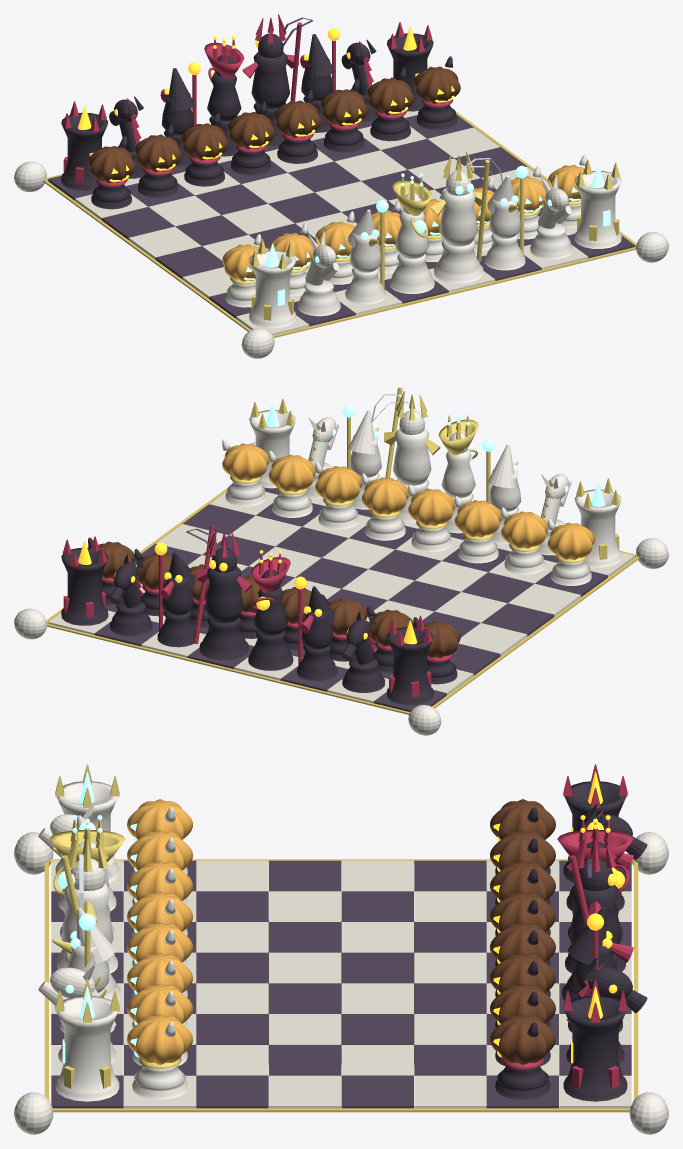
The model's file is halloween_chess_full.glb.
The picture shows the model from 3 angles, top to bottom: view 1: azimuth 30°, elevation 25°; view 2: azimuth 150°, elevation 25°; view 3: azimuth 270°, elevation 25°; orthographic projection. The views are drawn at different scales.
Visible parts, largest first — view 1: Rook_Tower_W, Rook_Tower_W.001, Rook_Tower_B, King_Robe_W, King_Robe_B, King_Base_W, Rook_Tower_B.001, Khối Lập Phương.003, Queen_Base_W, Sq_A5, Pawn_Pump_B.005, Sq_A6 (+75 smaller); view 2: Rook_Tower_B, Rook_Tower_B.001, Rook_Tower_W, King_Robe_B, King_Robe_W, King_Base_B, Rook_Tower_W.001, Pawn_Pump_W.002, Pawn_Pump_W, Pawn_Pump_W.006, Pawn_Pump_W.003, Pawn_Pump_W.004 (+74 smaller); view 3: Rook_Tower_B.001, Rook_Tower_W.001, Khối Lập Phương, Sq_H3, Sq_H6, Sq_H4, Sq_H5, Pawn_Pump_W.007, Pawn_Pump_B.007, Sq_A3, Sq_A6, Sq_D3 (+76 smaller).
Part boxes in pixels (left/top/right/bottom): Rook_Tower_W: left=249, top=250, right=295, bottom=328; Rook_Tower_W.001: left=574, top=171, right=621, bottom=248; Rook_Tower_B: left=61, top=112, right=107, bottom=190; King_Robe_W: left=439, top=189, right=477, bottom=246; King_Robe_B: left=251, top=51, right=289, bottom=108; King_Base_W: left=434, top=240, right=483, bottom=283; Rook_Tower_B.001: left=387, top=33, right=433, bottom=111; Khối Lập Phương.003: left=272, top=247, right=635, bottom=337; Queen_Base_W: left=389, top=254, right=434, bottom=293; Sq_A5: left=128, top=226, right=201, bottom=259; Pawn_Pump_B.005: left=320, top=89, right=367, bottom=126; Sq_A6: left=102, top=207, right=174, bottom=239; Rook_Tower_B: left=387, top=627, right=433, bottom=705; Rook_Tower_B.001: left=61, top=547, right=108, bottom=625; Rook_Tower_W: left=574, top=489, right=621, bottom=567; King_Robe_B: left=205, top=566, right=243, bottom=623; King_Robe_W: left=393, top=428, right=431, bottom=485; King_Base_B: left=199, top=617, right=248, bottom=660; Rook_Tower_W.001: left=249, top=410, right=295, bottom=488; Pawn_Pump_W.002: left=454, top=500, right=501, bottom=537; Pawn_Pump_W: left=547, top=522, right=594, bottom=560; Pawn_Pump_W.006: left=268, top=454, right=315, bottom=491; Pawn_Pump_W.003: left=408, top=488, right=455, bottom=525; Pawn_Pump_W.004: left=361, top=477, right=408, bottom=514; Rook_Tower_B.001: left=563, top=996, right=627, bottom=1101; Rook_Tower_W.001: left=55, top=996, right=119, bottom=1101; Khối Lập Phương: left=53, top=1108, right=629, bottom=1112; Sq_H3: left=196, top=1075, right=268, bottom=1108; Sq_H6: left=414, top=1075, right=486, bottom=1108; Sq_H4: left=269, top=1075, right=341, bottom=1108; Sq_H5: left=341, top=1075, right=413, bottom=1108; Pawn_Pump_W.007: left=127, top=1014, right=192, bottom=1064; Pawn_Pump_B.007: left=490, top=1014, right=555, bottom=1064; Sq_A3: left=196, top=860, right=268, bottom=891; Sq_A6: left=414, top=860, right=486, bottom=891; Sq_D3: left=196, top=952, right=268, bottom=983.
Size of what is drawn, in the model's own units: 4.56 by 1.39 by 4.51.
